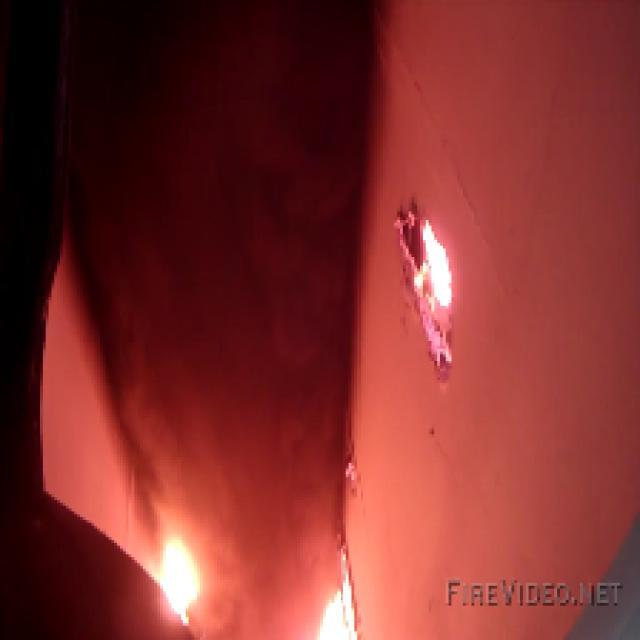Fire: (157, 551, 200, 606)
Smoke: (100, 49, 354, 512)
